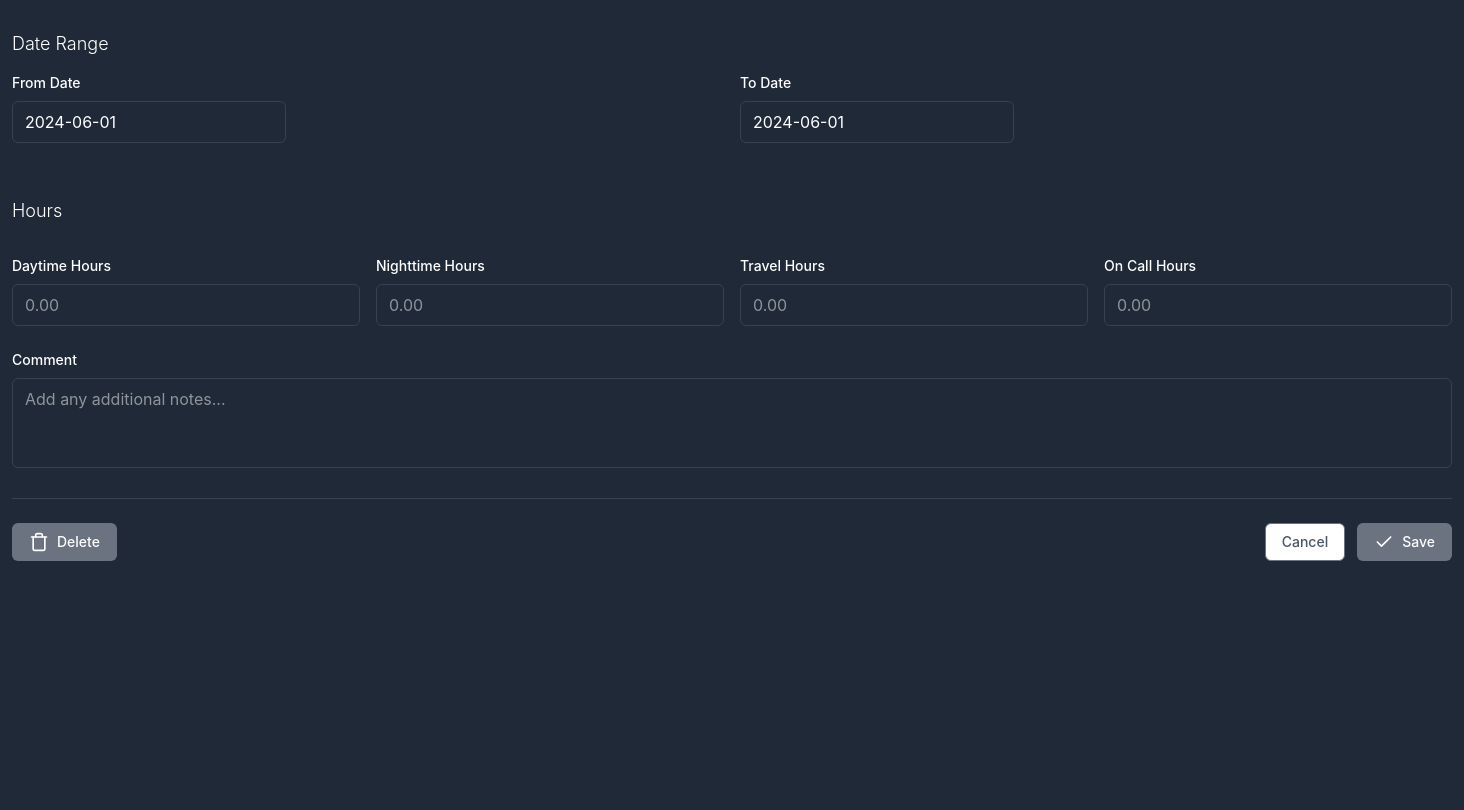
EditTaskEntry › rejects working hours above those available after leave
The image size is (1464, 810).
Type "5" into the number field with id "daytime-input".
click(186, 305); type("5")  # box [12,284,360,326]
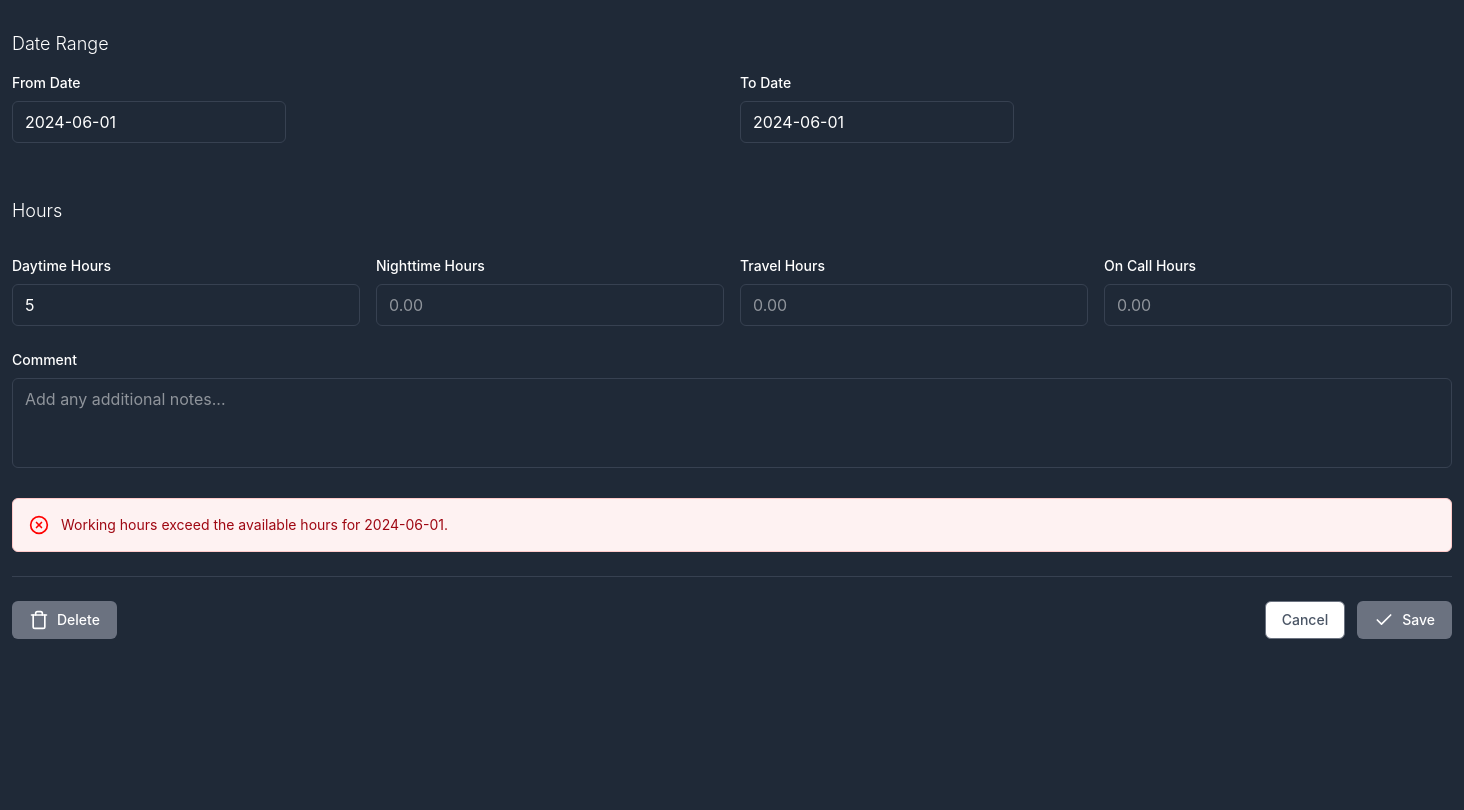
Expected: the button "Save" is disabled, [1357,601,1452,639]
Expected: the text "Working hours exceed the available hours for 2024-06-01." is shown, [61,515,448,535]
